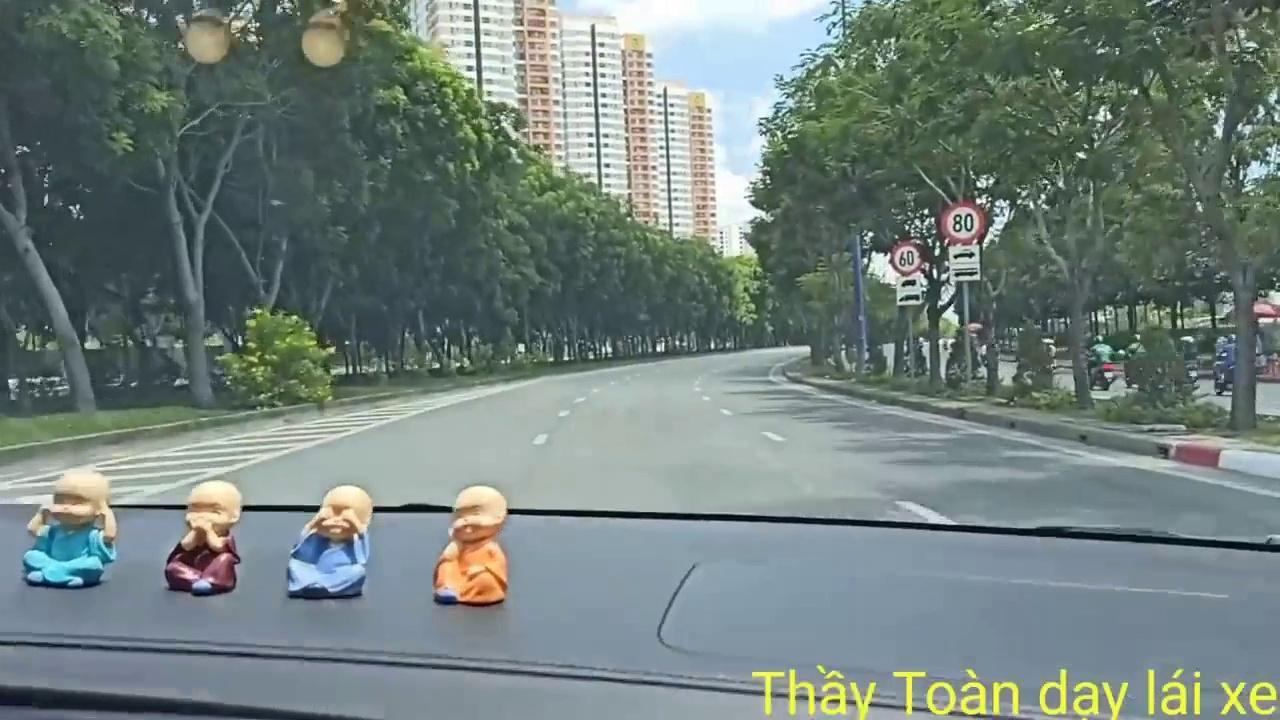Biển phụ: (948, 245, 981, 281), (894, 274, 923, 307)
GIơi hạn tốc độ 60Km/h: (892, 239, 923, 274)
Giới hạn tốc độ 80Km/h: (940, 200, 984, 243)
